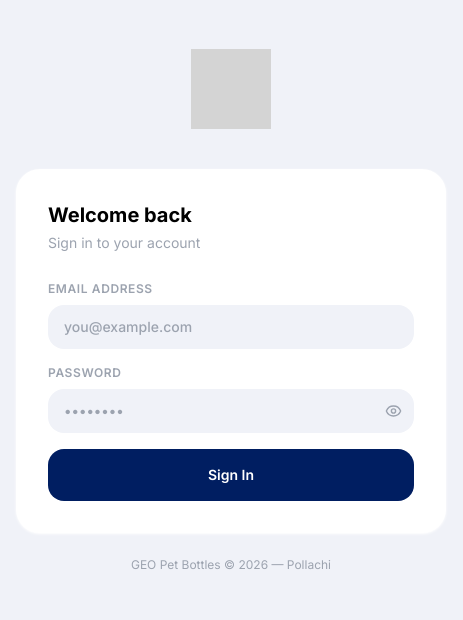
Test: Login page › shows fallback error when response has no message
Type "x@y.com" into the field with placeholder "you@example.com" at coordinates (231, 327), box [48, 305, 414, 349]
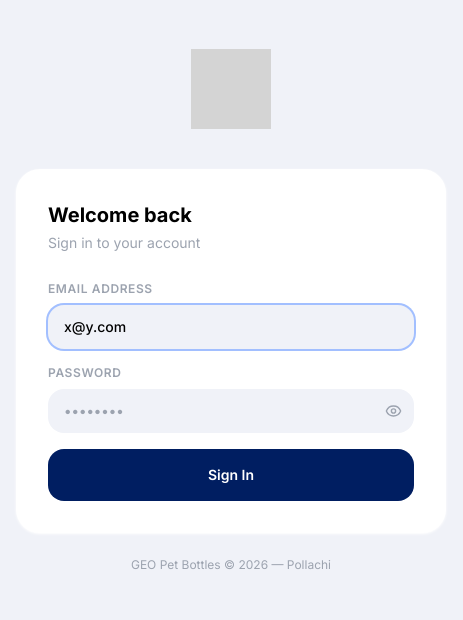
Type "x" into the password field with placeholder "••••••••" at coordinates (231, 411), box [48, 389, 414, 433]
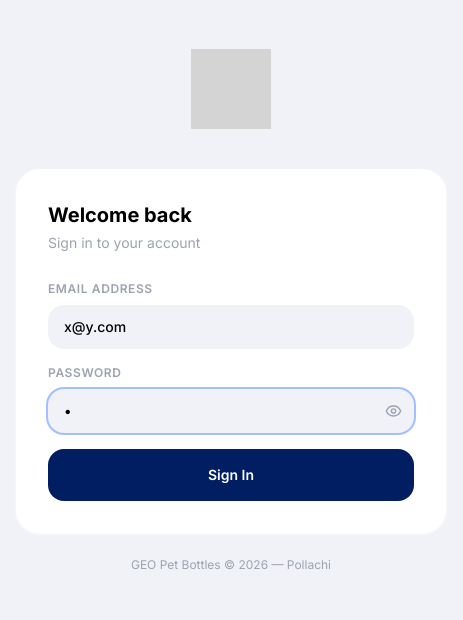
Click the button "Sign In" at coordinates (231, 475), box [48, 449, 414, 501]
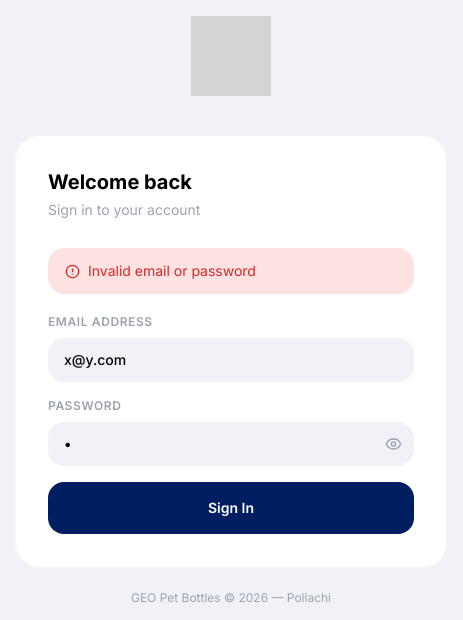
Expected: the text "Invalid email or password" is shown, [48, 248, 414, 294]
